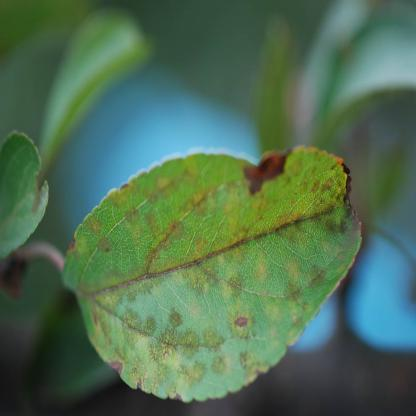Apple Scab Leaf: (61, 132, 362, 416)
